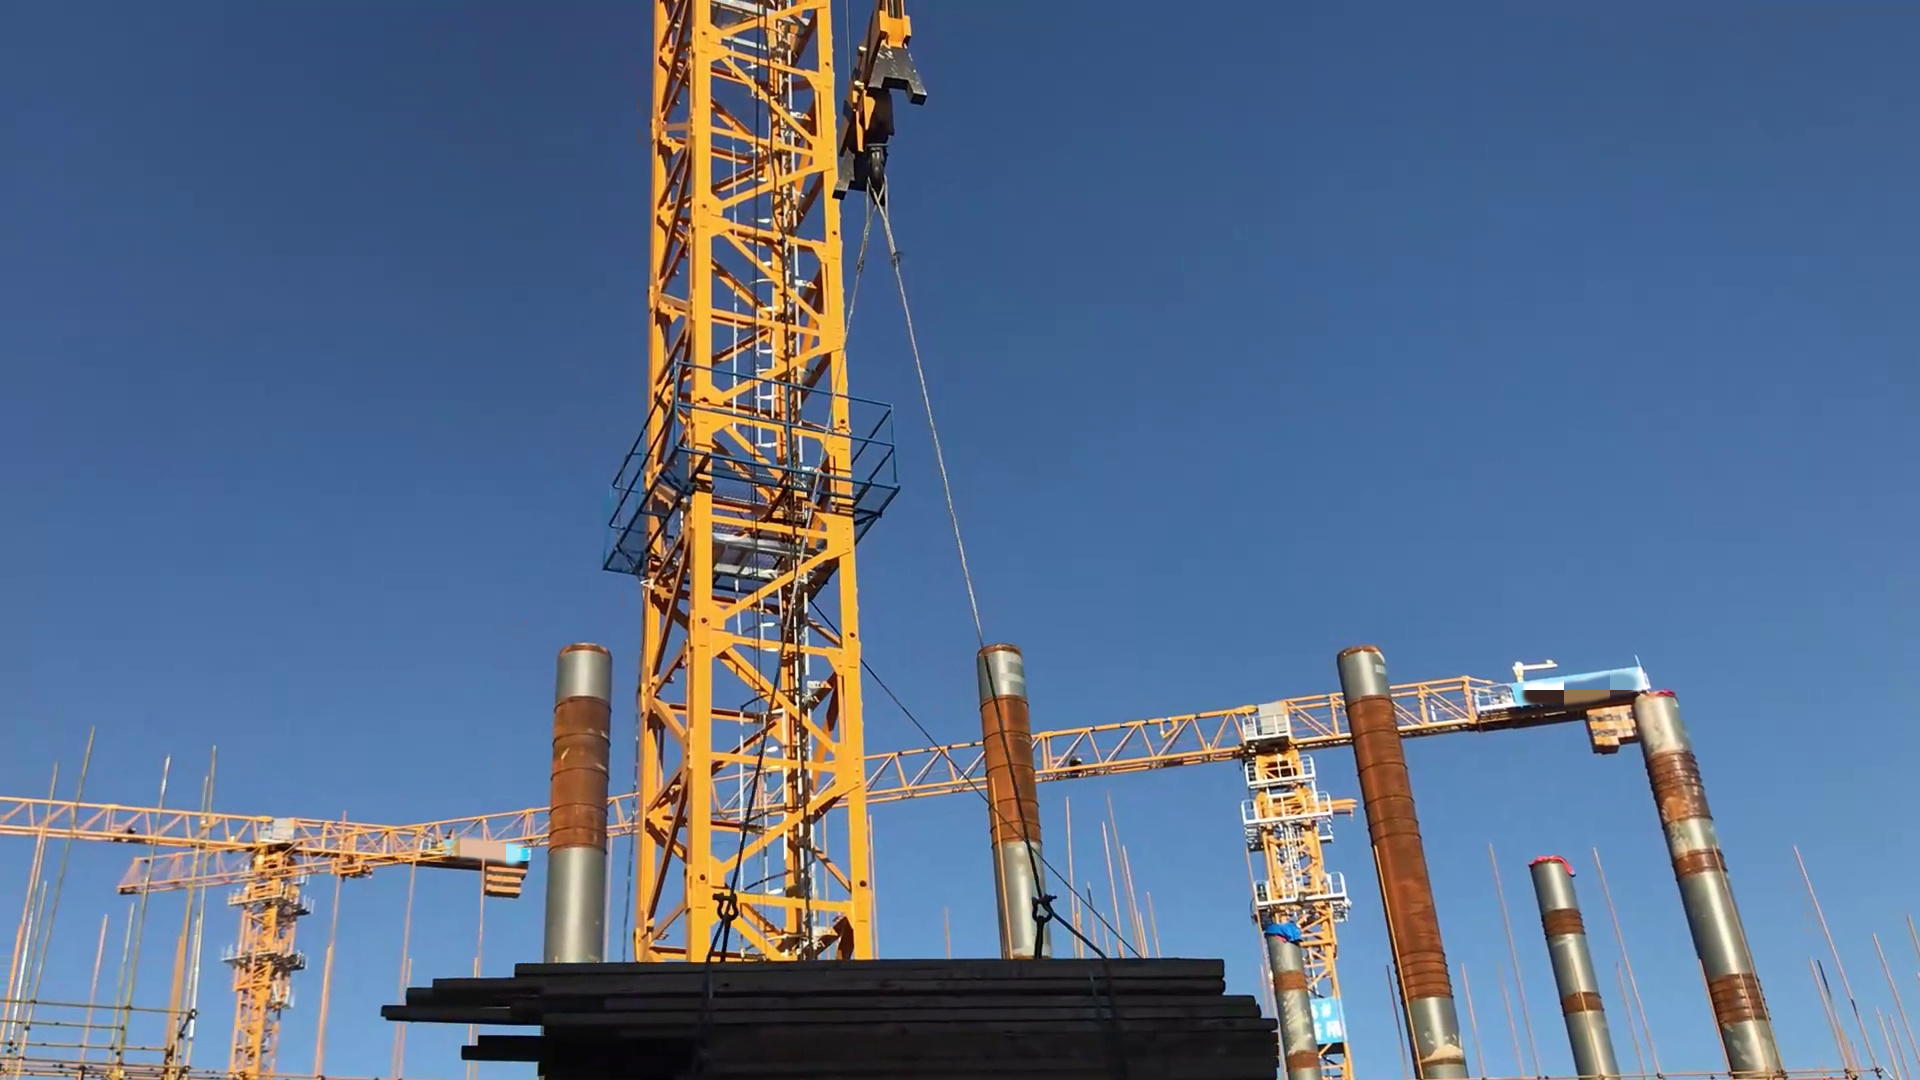hook: (833, 4, 938, 187)
wood: (377, 955, 1284, 1080)
